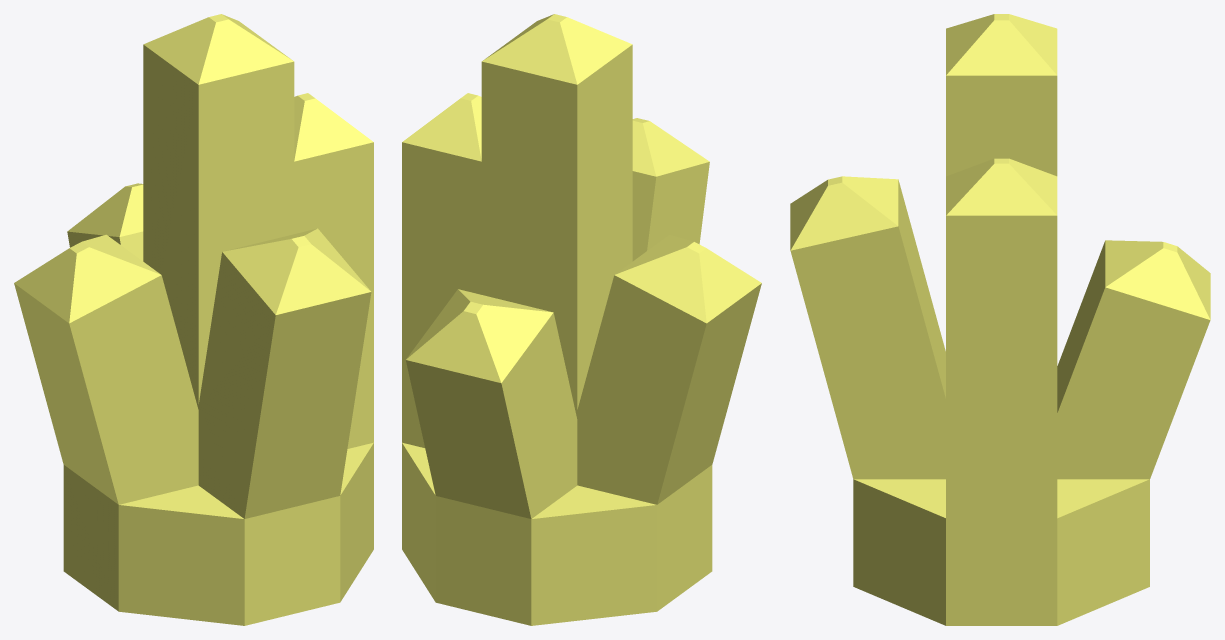
3 renders of one model, left to right at view 1: azimuth 30°, elevation 25°; view 2: azimuth 150°, elevation 25°; view 3: azimuth 270°, elevation 25°, orthographic.
Visible parts, largest first — view 1: 30385.dat; view 2: 30385.dat; view 3: 30385.dat.
Part boxes in pixels (x1,y1,x2,y2): 30385.dat: [14, 14, 373, 625]; 30385.dat: [402, 14, 761, 625]; 30385.dat: [790, 14, 1210, 625].
Bounding box in the file's own units: 0.00955 × 0.0162 × 0.0113.
